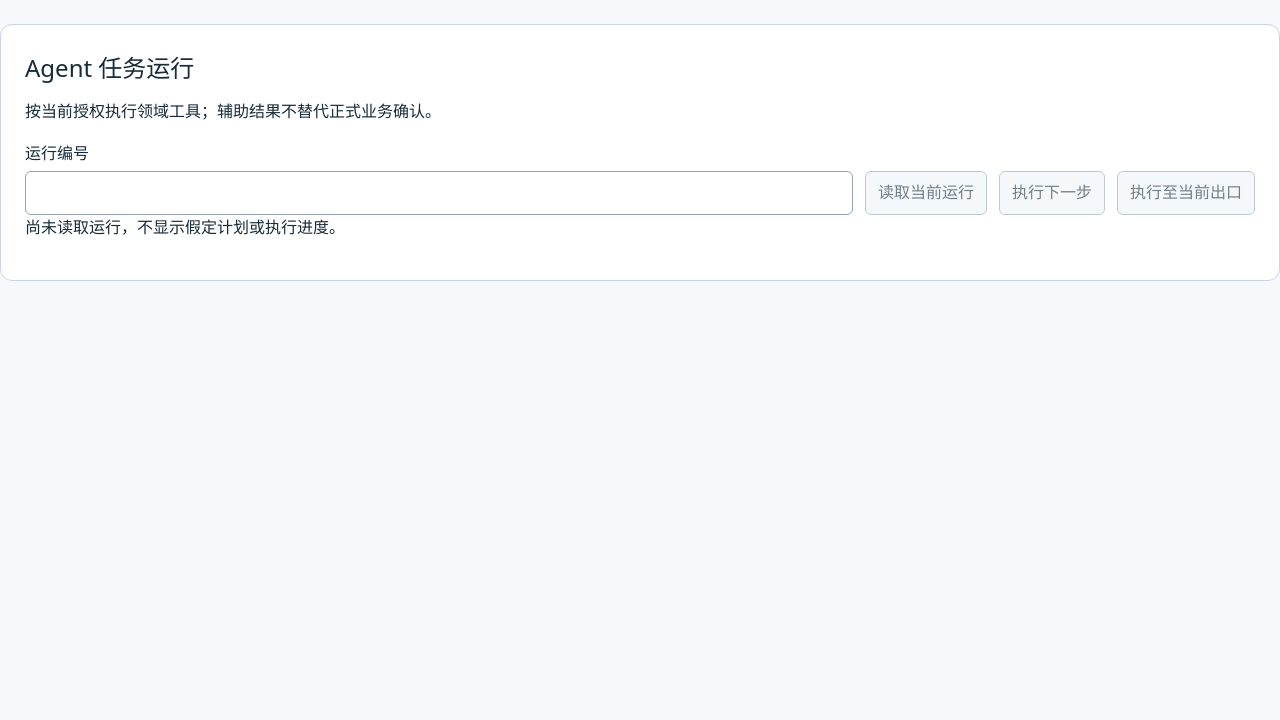
Test: shared real-run projection › never counts a failed step as completed and displays actual evidence
Type "run-1" into the field labelled "运行编号" at (439, 193), box [25,171,853,215]
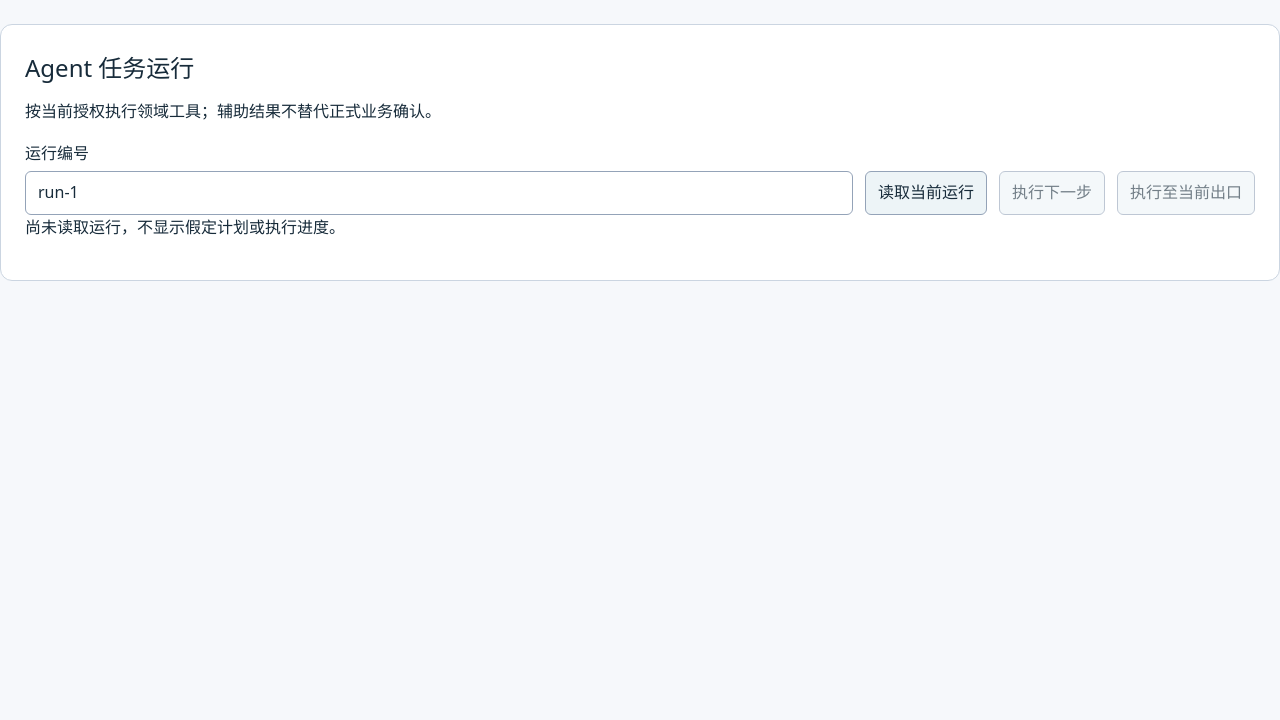
Click the button "读取当前运行" at (926, 193), box [865,171,987,215]
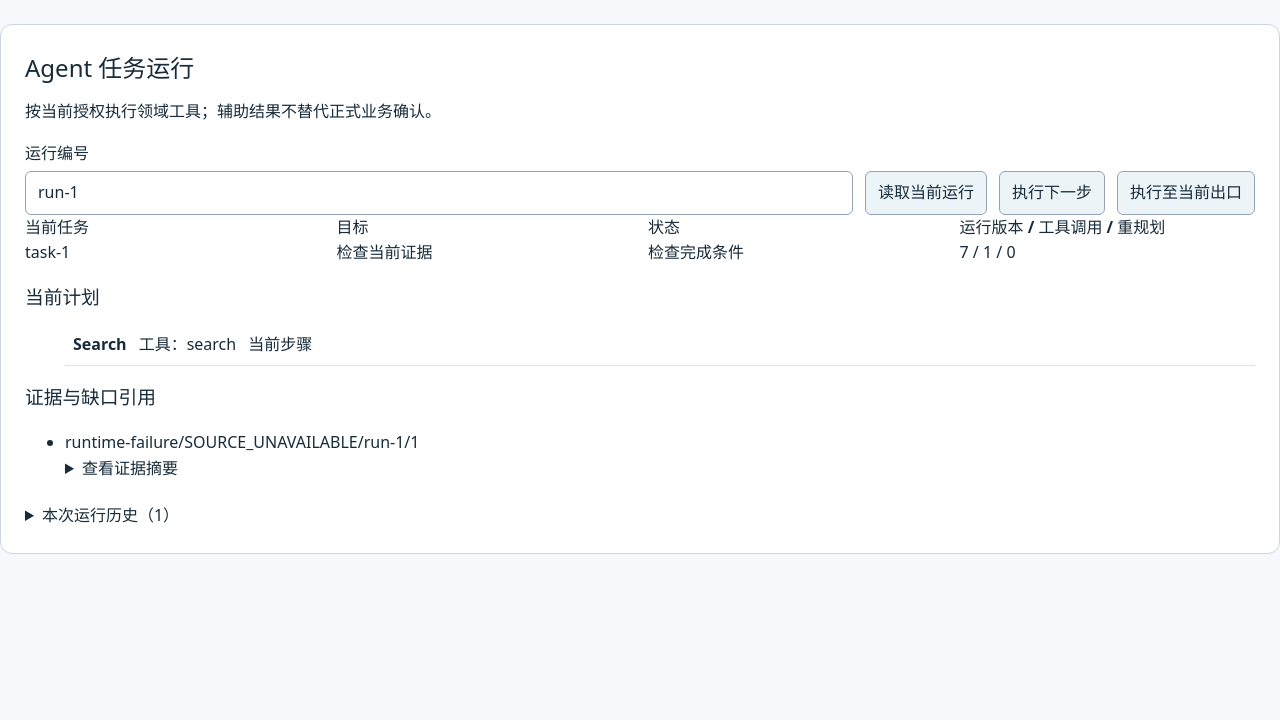
expect the text "检查当前证据" is shown: met, box [336,241,432,263]
expect the text "runtime-failure/SOURCE_UNAVAILABLE/run-1/1" is shown: met, box [65,431,419,453]
